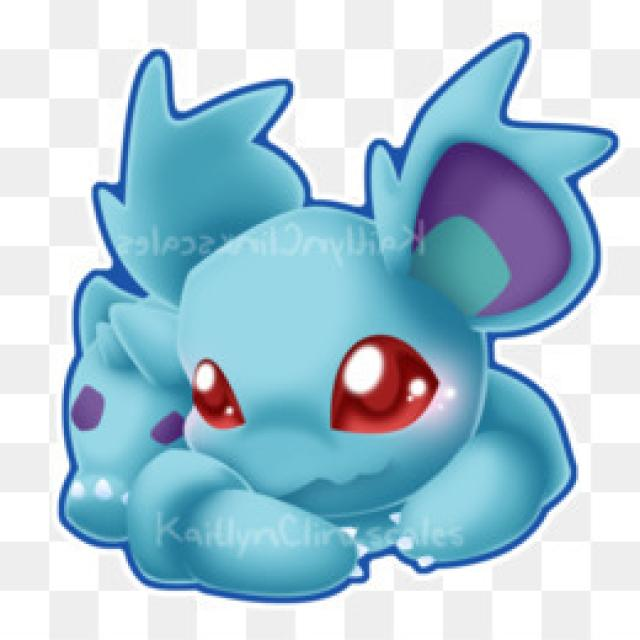Nidorina: (39, 30, 628, 613)
